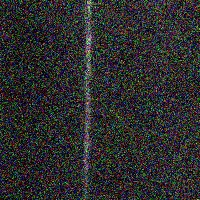scratches: (77, 1, 99, 199)
